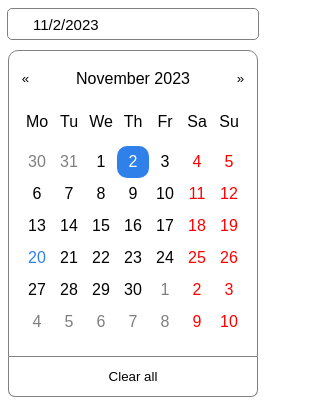
Scenario: CalendarWithInptut › Click on cell
Click the text "15".
click(101, 226)  # box [92,217,110,234]
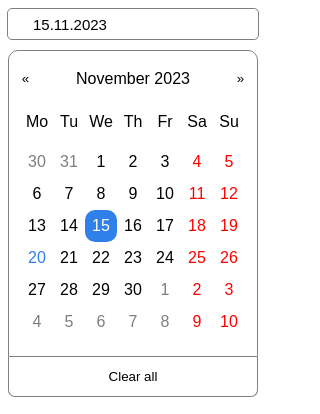
Expected: the field with placeholder "dd.mm.yyyy" holds "15.11.2023", [7,8,259,40]
